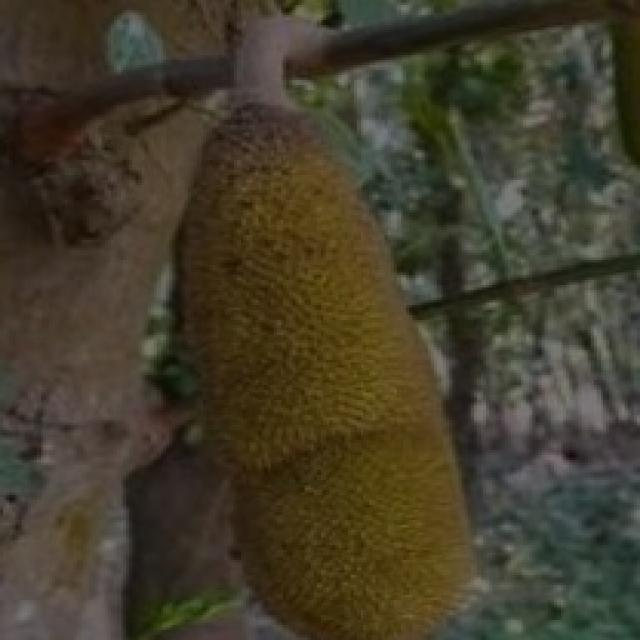Fruit: (154, 245, 526, 640)
